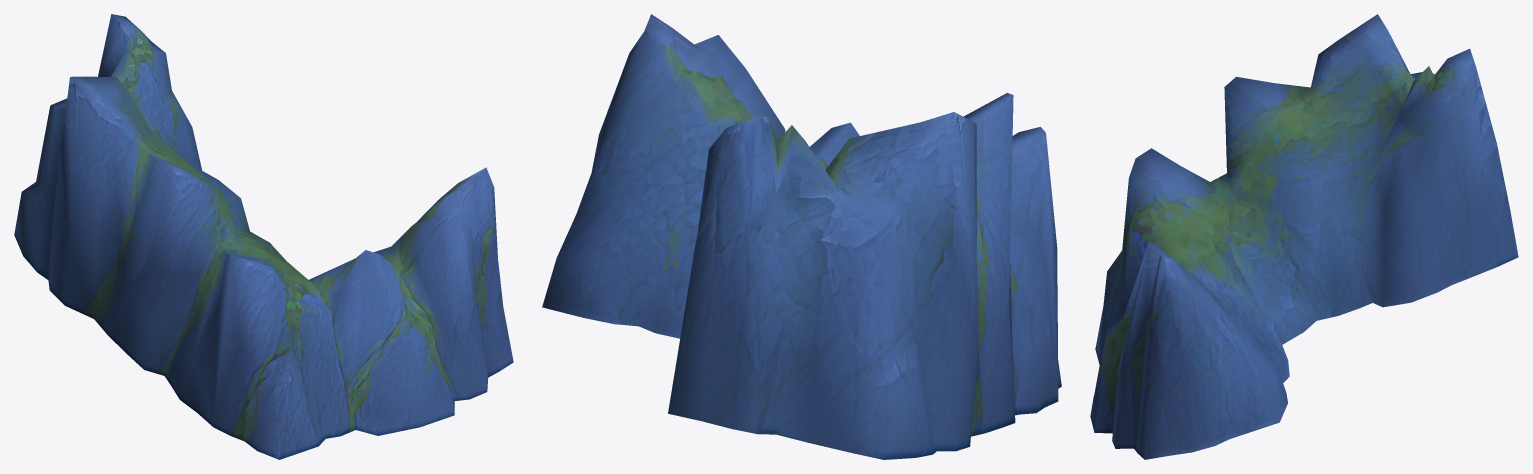
File: rock_wall_b.glb
3 renders of one model, left to right at view 1: azimuth 30°, elevation 25°; view 2: azimuth 150°, elevation 25°; view 3: azimuth 270°, elevation 25°, orthographic. The views are drawn at different scales.
Parts seen in each view (by area): view 1: tripo_node_888ff0fd-0e16-427b-ad7d-c04d2651a62c; view 2: tripo_node_888ff0fd-0e16-427b-ad7d-c04d2651a62c; view 3: tripo_node_888ff0fd-0e16-427b-ad7d-c04d2651a62c.
Boxes of the visible parts, bbox=[...] form: tripo_node_888ff0fd-0e16-427b-ad7d-c04d2651a62c: bbox=[14, 14, 513, 459]; tripo_node_888ff0fd-0e16-427b-ad7d-c04d2651a62c: bbox=[542, 14, 1061, 459]; tripo_node_888ff0fd-0e16-427b-ad7d-c04d2651a62c: bbox=[1090, 14, 1518, 459].
Bounding box in the file's own units: 0.9512 × 0.7949 × 0.998.
Materials: 1 (1 with a texture image).
